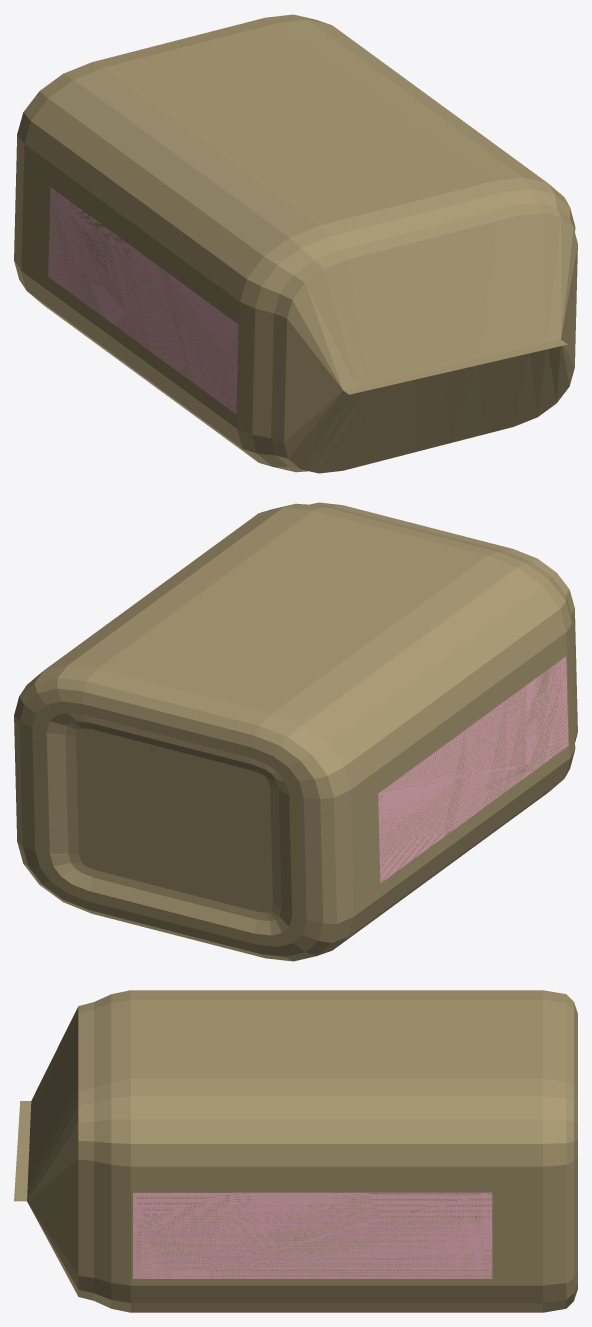
The picture shows the model from 3 angles, top to bottom: view 1: azimuth 30°, elevation 25°; view 2: azimuth 150°, elevation 25°; view 3: azimuth 270°, elevation 25°; orthographic projection. The views are drawn at different scales.
Visible parts, largest first — view 1: cicipopo stock sugar; view 2: cicipopo stock sugar; view 3: cicipopo stock sugar.
Boxes of the visible parts, left/top/right/bottom form: cicipopo stock sugar: left=14, top=14, right=577, bottom=473; cicipopo stock sugar: left=14, top=502, right=577, bottom=961; cicipopo stock sugar: left=14, top=990, right=577, bottom=1312.
Bounding box in the file's own units: 6.57 × 4.51 × 10.05.
